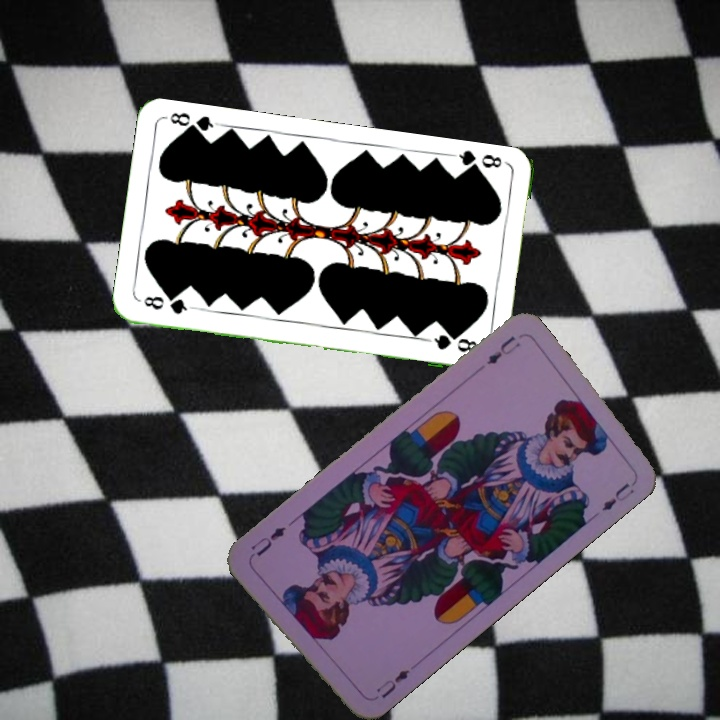EU: (372, 665, 412, 701), (483, 332, 523, 368)
G8: (449, 147, 505, 177), (139, 292, 196, 317)
